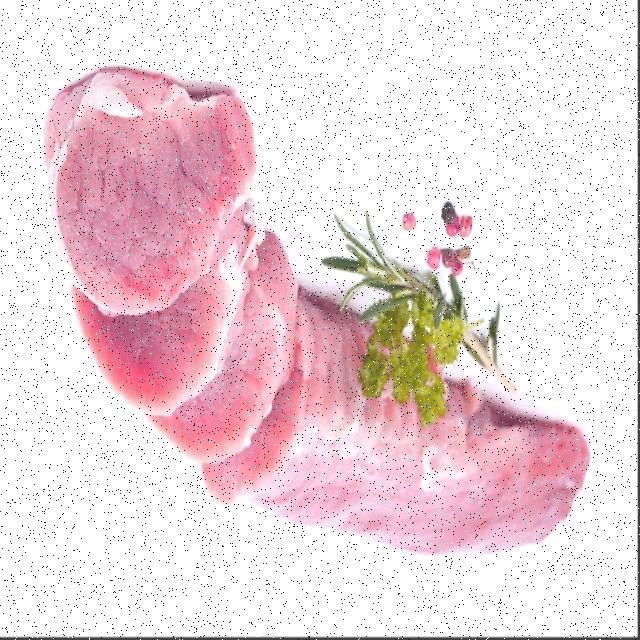potato: (196, 343, 603, 558), (54, 54, 262, 310), (141, 244, 296, 472), (67, 252, 240, 418)
